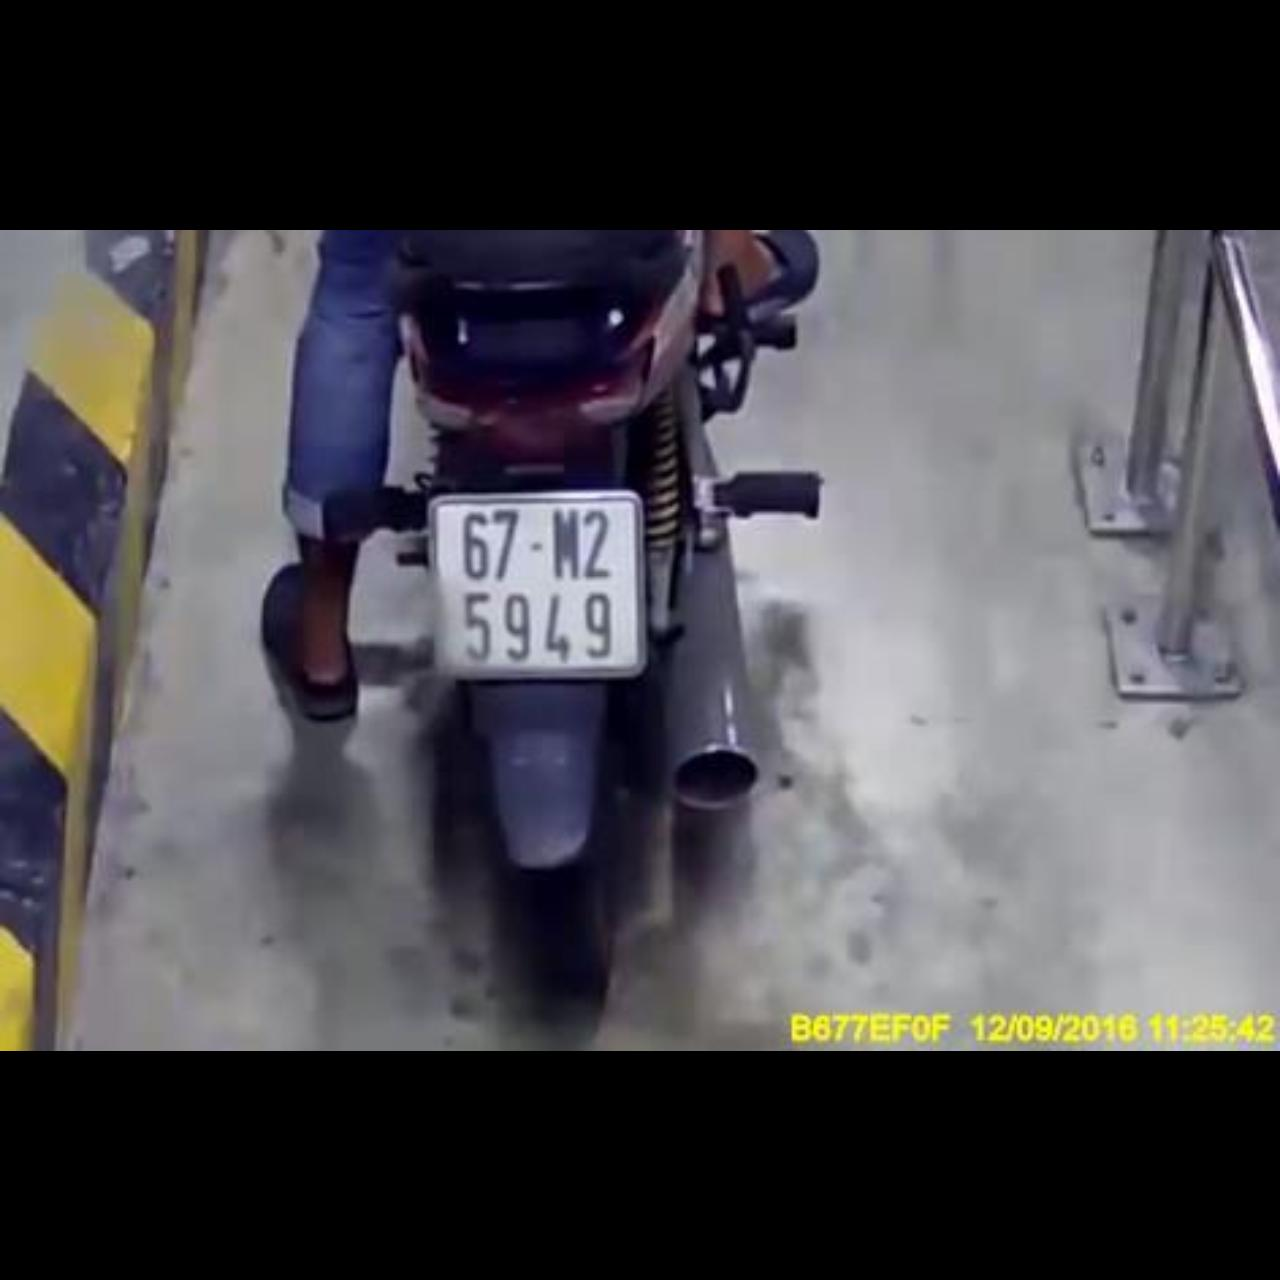bienso: (420, 490, 648, 684)
